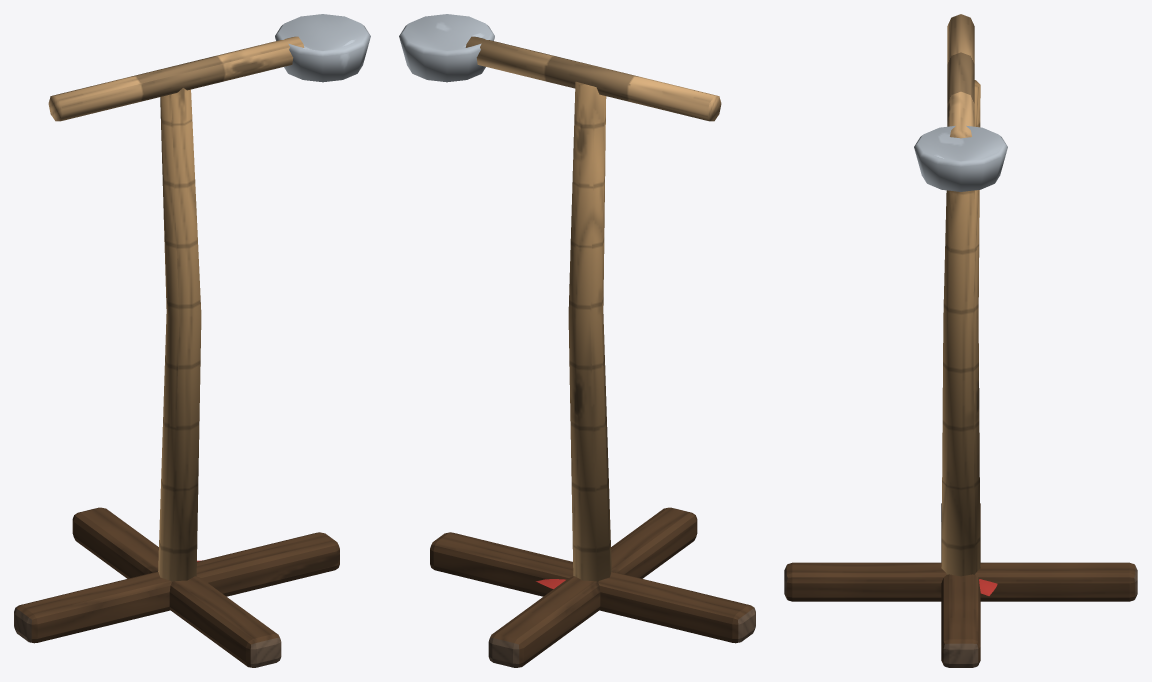
The model's file is perch.glb.
3 renders of one model, left to right at view 1: azimuth 30°, elevation 25°; view 2: azimuth 150°, elevation 25°; view 3: azimuth 270°, elevation 25°, orthographic. The views are drawn at different scales.
Visible parts, largest first — view 1: Perch; view 2: Perch; view 3: Perch.
Boxes of the visible parts, <box> form: Perch: <box>14,14,370,667</box>; Perch: <box>399,14,755,667</box>; Perch: <box>784,14,1137,667</box>.
Size of the model in its own units: 0.99 by 1.48 by 0.9.
Materials: 1 (1 with a texture image).
